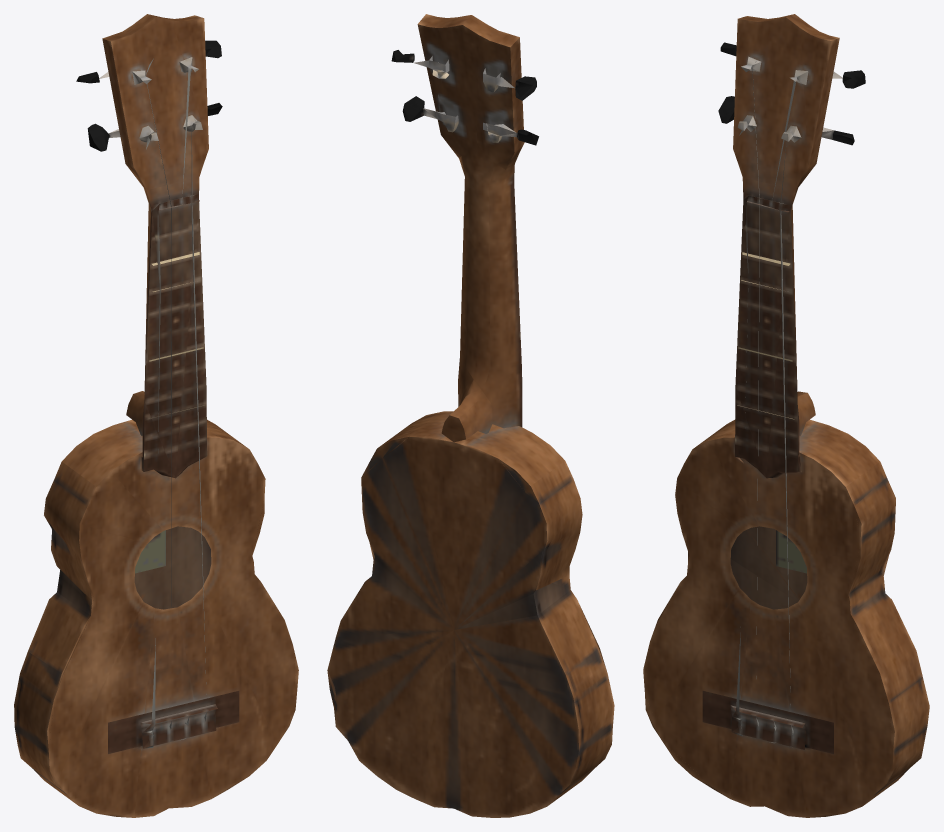
The model's file is ukulele.glb.
The picture shows the model from 3 angles, left to right: view 1: azimuth 30°, elevation 25°; view 2: azimuth 150°, elevation 25°; view 3: azimuth 330°, elevation 25°; orthographic projection.
Parts seen in each view (by area): view 1: mesh; view 2: mesh; view 3: mesh.
Part boxes in pixels (box(x1,y1,x2,y2)): mesh: box(14, 14, 298, 817); mesh: box(327, 14, 614, 817); mesh: box(643, 14, 929, 817).
Size of the model in its own units: 0.1776 by 0.527 by 0.0504.
1 material, 1 textured.
